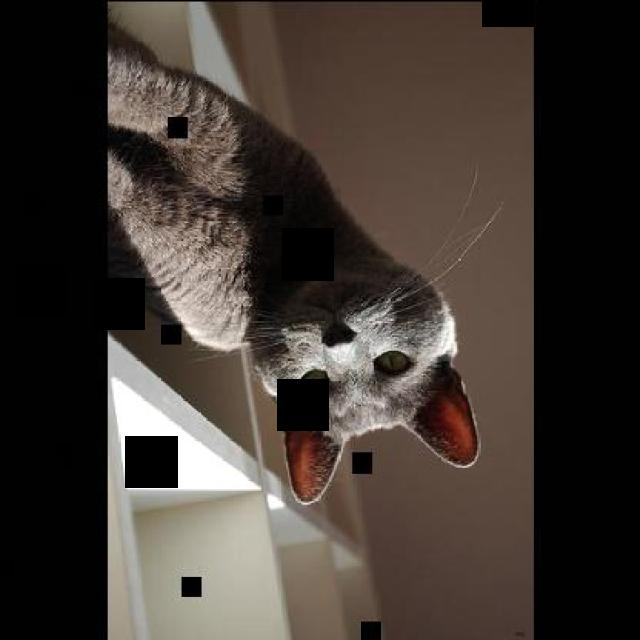unauthorized: (106, 9, 503, 505)
